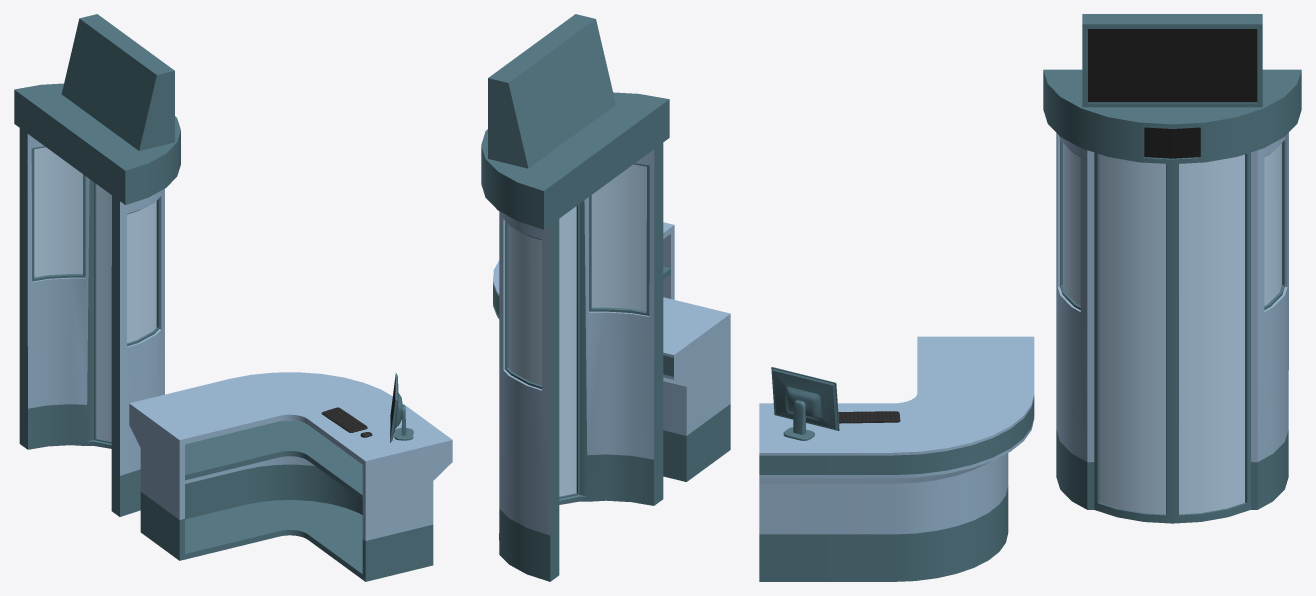
File: 11_BoardingAreaDesk_AIRPORT_0.obj
3 renders of one model, left to right at view 1: azimuth 30°, elevation 25°; view 2: azimuth 150°, elevation 25°; view 3: azimuth 270°, elevation 25°, orthographic. The views are drawn at different scales.
Parts seen in each view (by area): view 1: 11.BoardingAreaDesk_AIRPORT_0; view 2: 11.BoardingAreaDesk_AIRPORT_0; view 3: 11.BoardingAreaDesk_AIRPORT_0.
Boxes of the visible parts, <box> form: 11.BoardingAreaDesk_AIRPORT_0: <box>14,14,452,581</box>; 11.BoardingAreaDesk_AIRPORT_0: <box>481,14,730,581</box>; 11.BoardingAreaDesk_AIRPORT_0: <box>759,14,1301,581</box>.
Size of the model in its own units: 1.86 by 3.66 by 3.67.
1 material, 1 textured.
